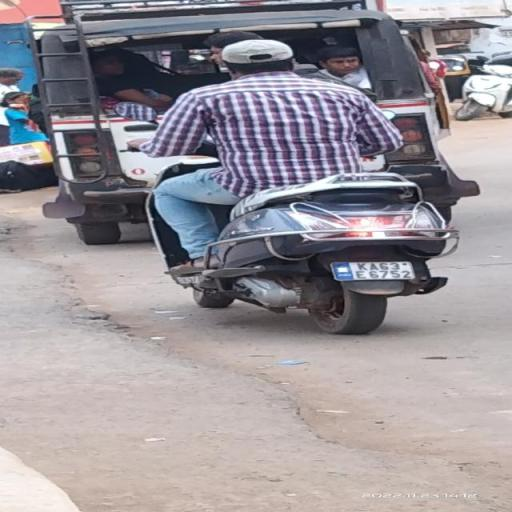bike: (120, 30, 470, 333)
numberplate: (331, 260, 418, 281)
withouthelmet: (226, 41, 292, 75)
